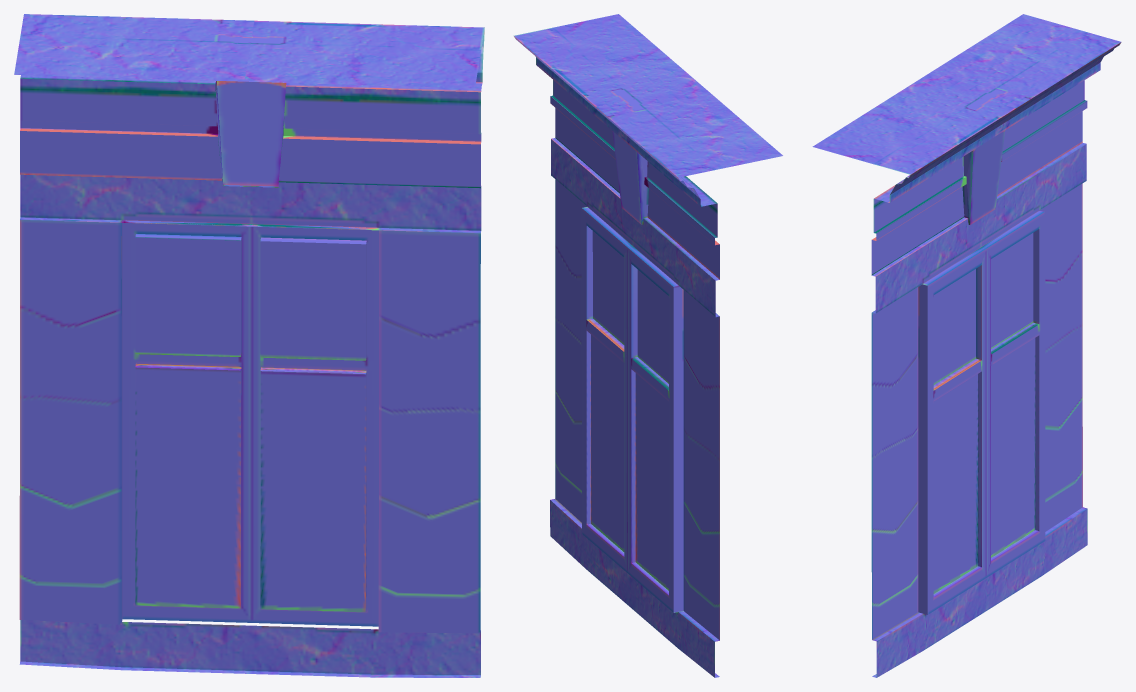
3 views of the same model, side by side, from view 1: azimuth 30°, elevation 25°; view 2: azimuth 150°, elevation 25°; view 3: azimuth 270°, elevation 25° (orthographic). The views are drawn at different scales.
Parts seen in each view (by area): view 1: _2Fwindow_low_013; view 2: _2Fwindow_low_013; view 3: _2Fwindow_low_013.
Boxes of the visible parts, bbox=[...] form: _2Fwindow_low_013: bbox=[14, 14, 484, 677]; _2Fwindow_low_013: bbox=[513, 14, 782, 677]; _2Fwindow_low_013: bbox=[812, 14, 1121, 677].
Size of the model in its own units: 274 by 410 by 223.
